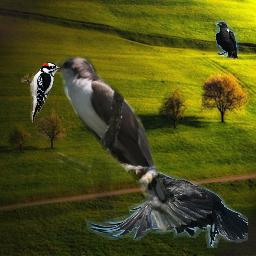Crow: (85, 169, 248, 248), (215, 21, 239, 60)
Cuckoo: (50, 56, 184, 232)
Woodpecker: (21, 62, 61, 123)
